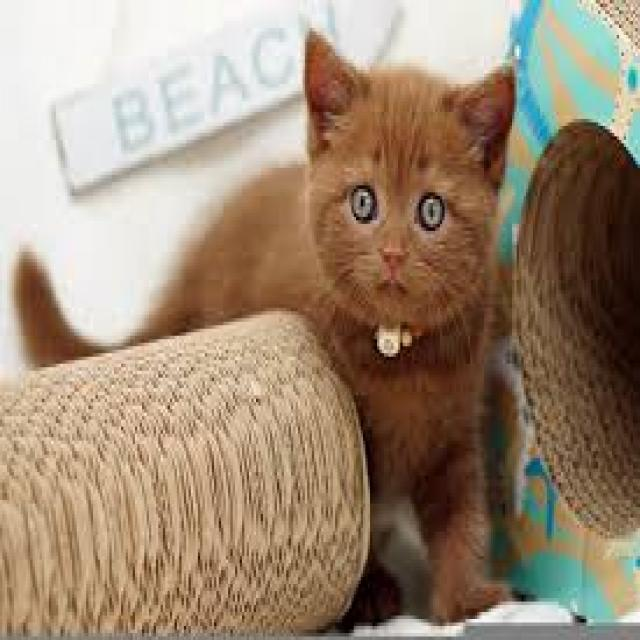Cat: (263, 25, 525, 623)
